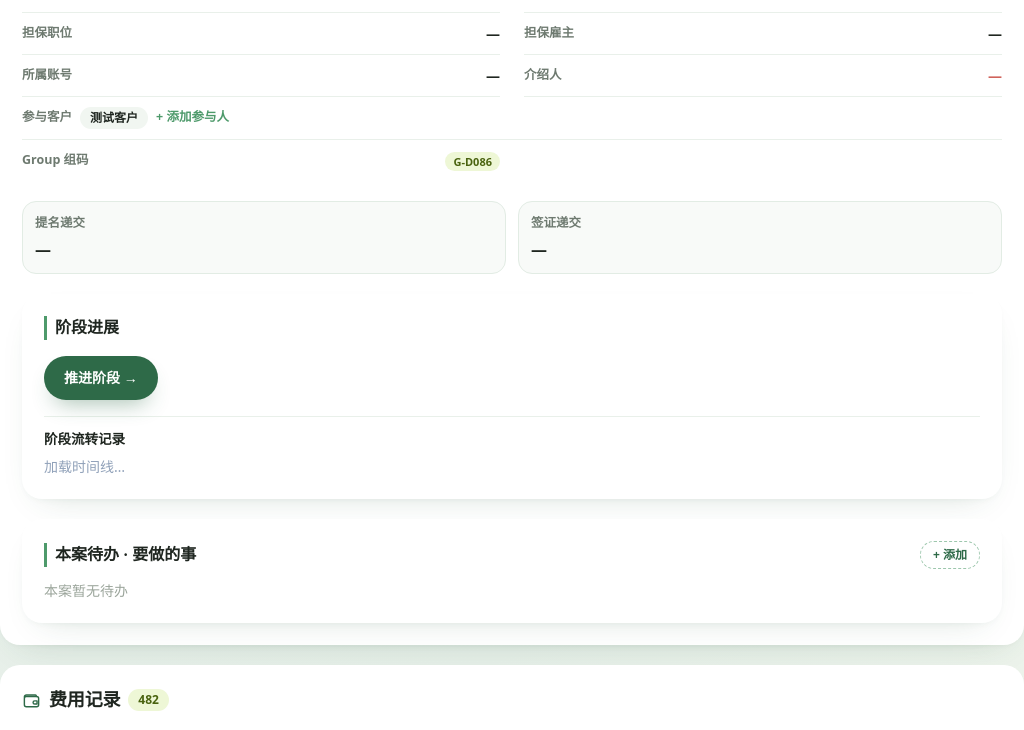
Test: CustomerDetailPage（案件中心单页 · 无 tab） › 客户页无「同步主案件」锁定：即使案件设了 parent_sync_progress，进度照样可编辑
The image size is (1024, 730).
(page scrolled)
// 展开推进阶段 → StageControl 可操作（非禁用）
Click the button "推进阶段 →" at (101, 378), box [44,356,158,400]
(page scrolled)
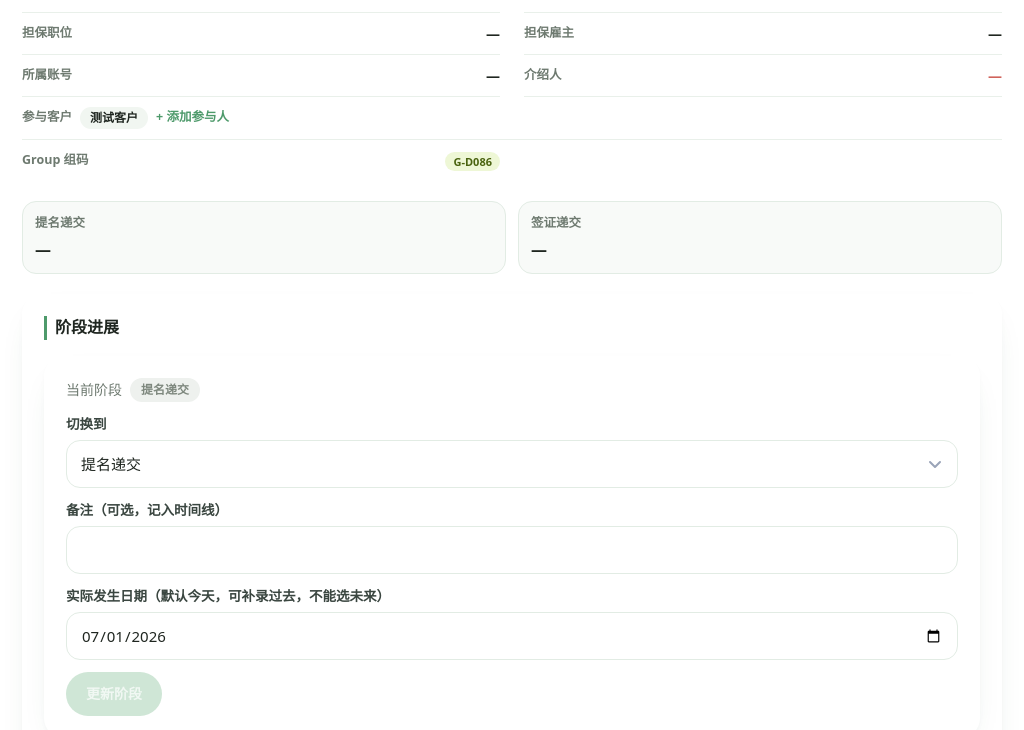
Now the button "更新阶段" is shown, box [66,672,162,716]
Now the dropdown is enabled, box [66,440,958,488]
